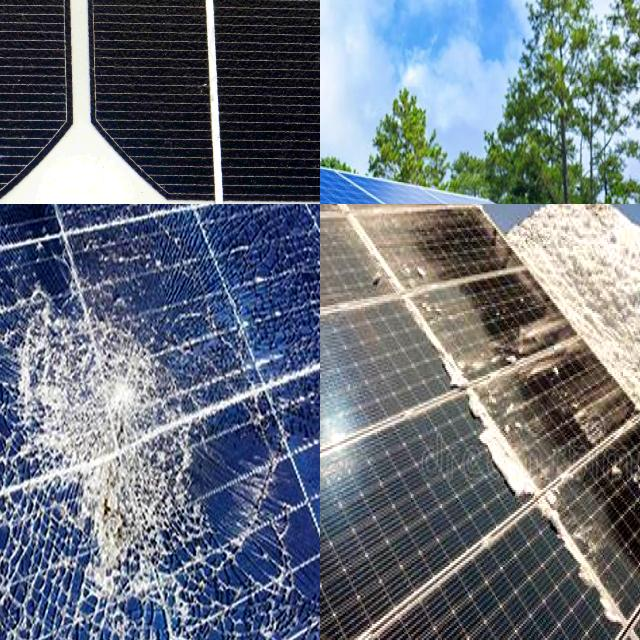crack: (320, 109, 448, 204), (320, 106, 435, 204), (320, 135, 473, 204)
hotspot: (0, 291, 201, 559), (198, 541, 312, 640), (0, 607, 172, 640), (0, 573, 169, 605)
panel: (410, 286, 542, 530), (551, 472, 625, 628), (477, 368, 548, 512), (320, 503, 379, 640), (510, 238, 568, 330), (584, 328, 640, 420), (438, 329, 476, 398), (429, 204, 480, 237)
shadow: (0, 88, 54, 193), (177, 180, 250, 204)
